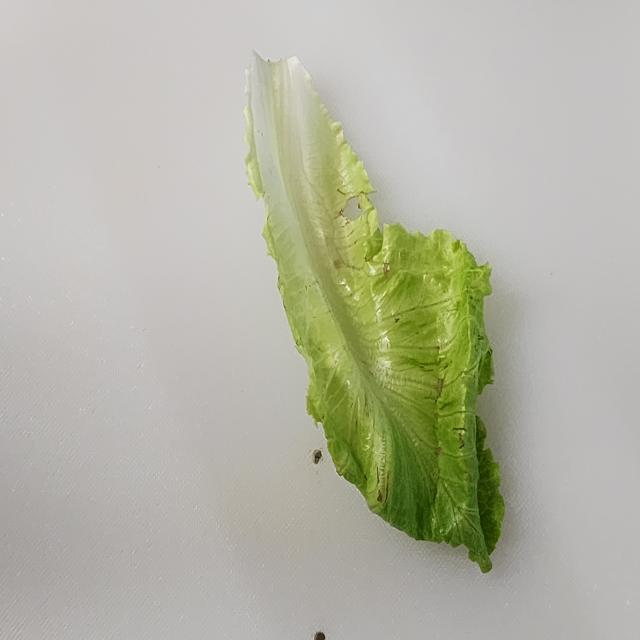lettuce: (242, 49, 505, 574)
